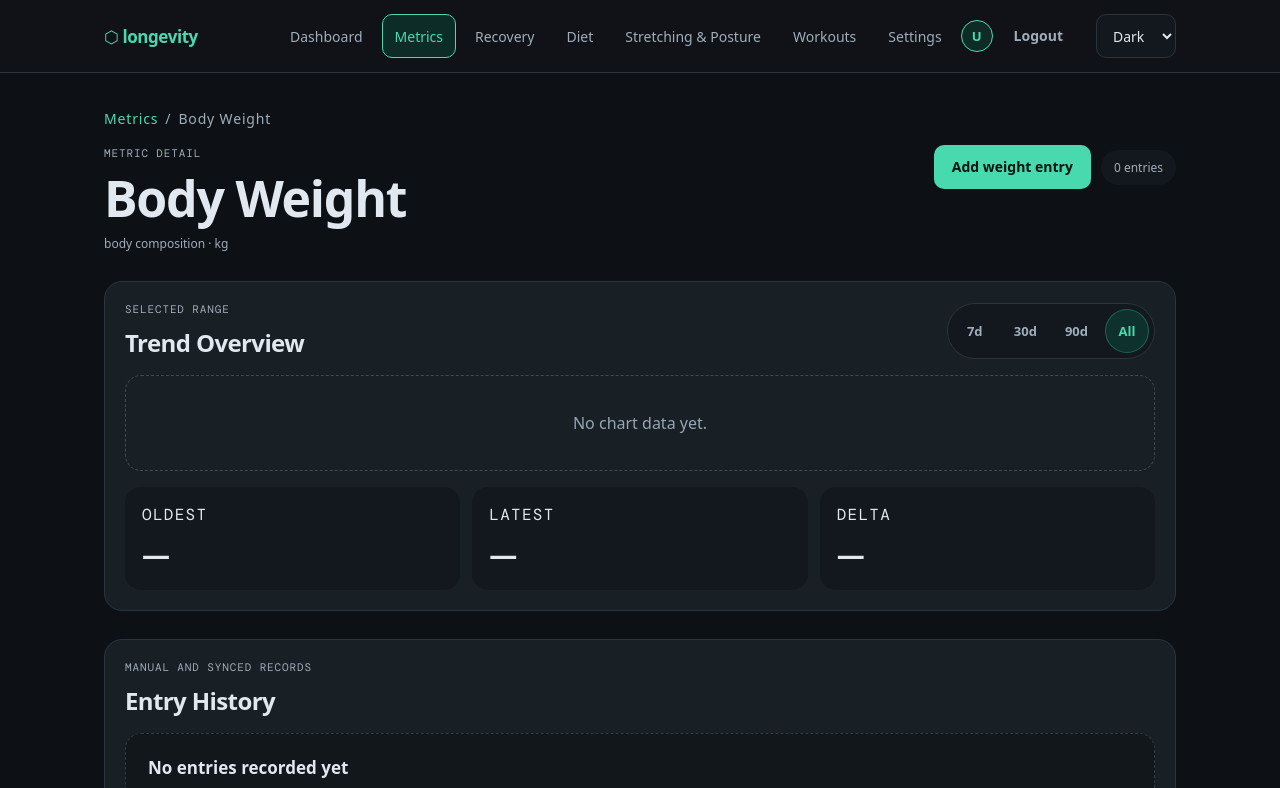
metric detail route › keeps the weight form open when saving fails
Click the button "Add weight entry" at [1012, 167], box top-left (934, 145), bottom-right (1091, 189)
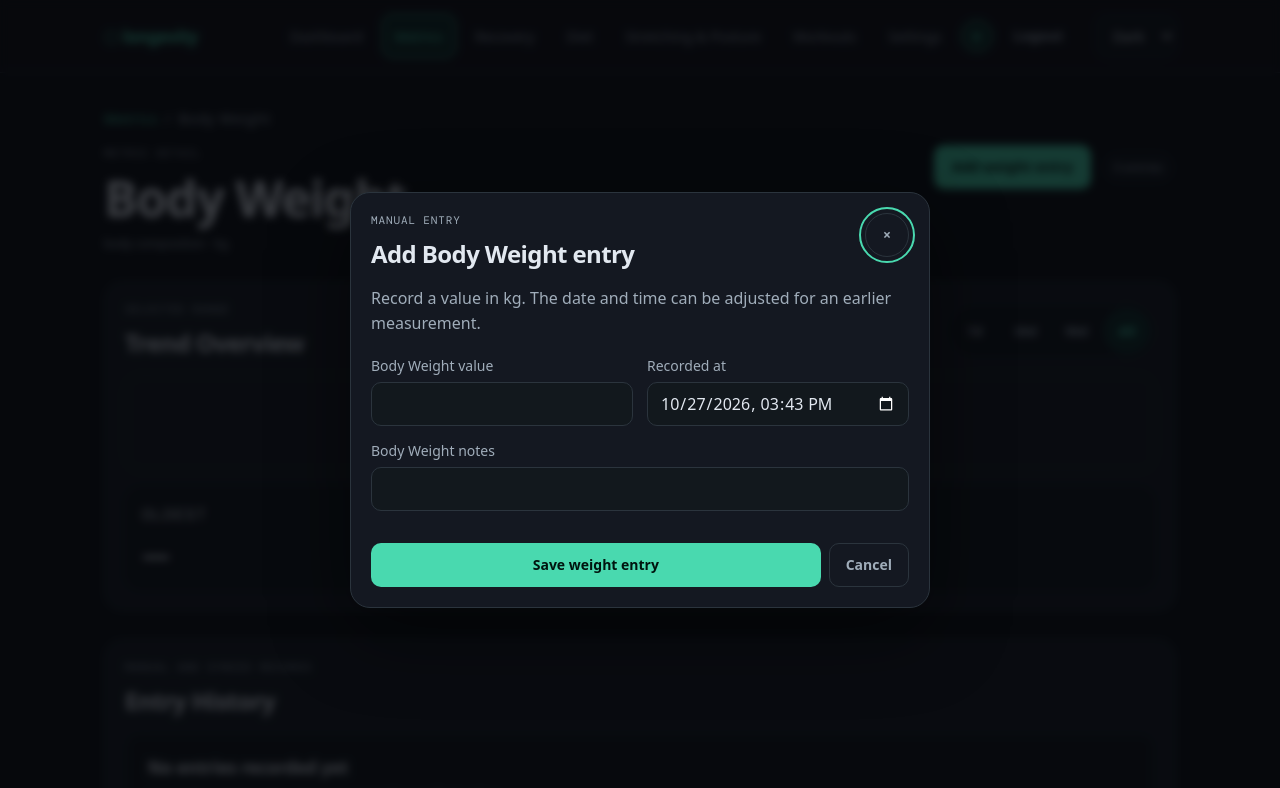
Type "72.4" into the number field labelled "Body Weight value" at [502, 404], box top-left (371, 382), bottom-right (633, 426)
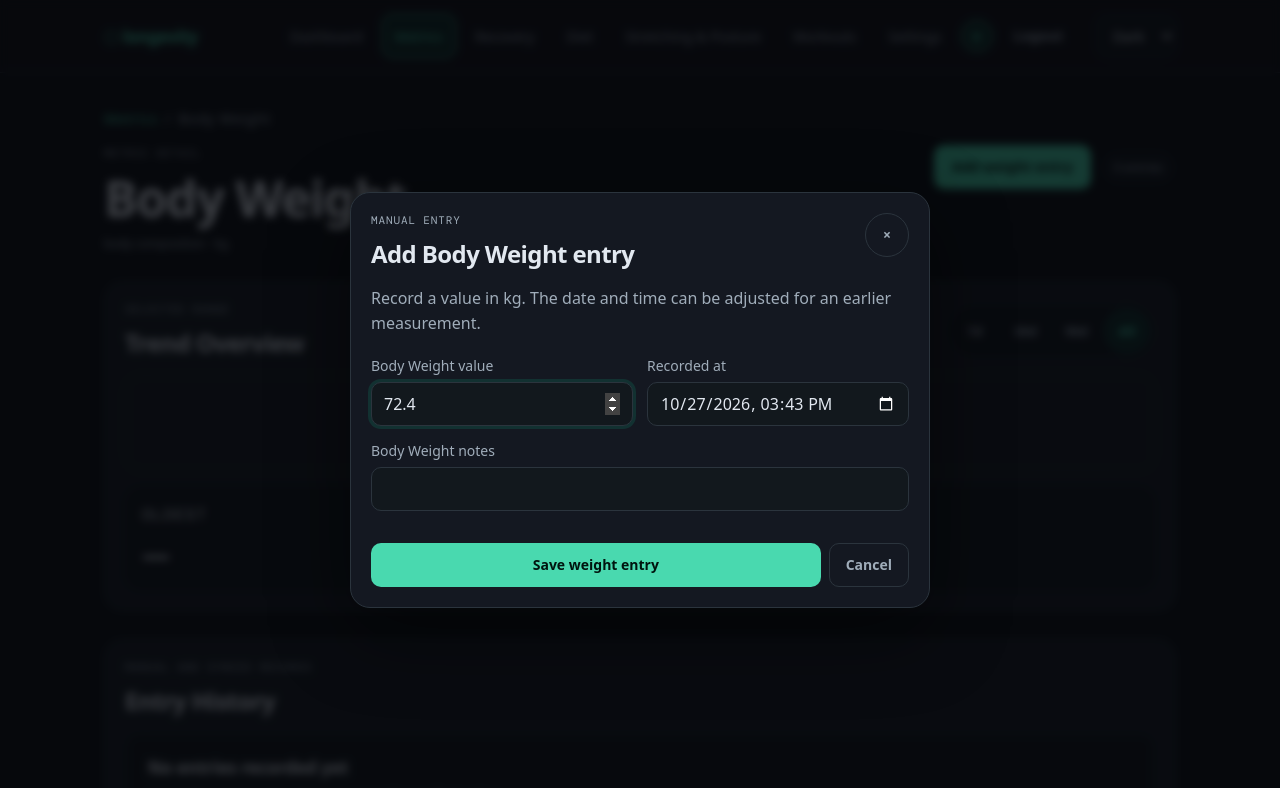
Click the button "Save weight entry" at [596, 565], box top-left (371, 543), bottom-right (821, 587)
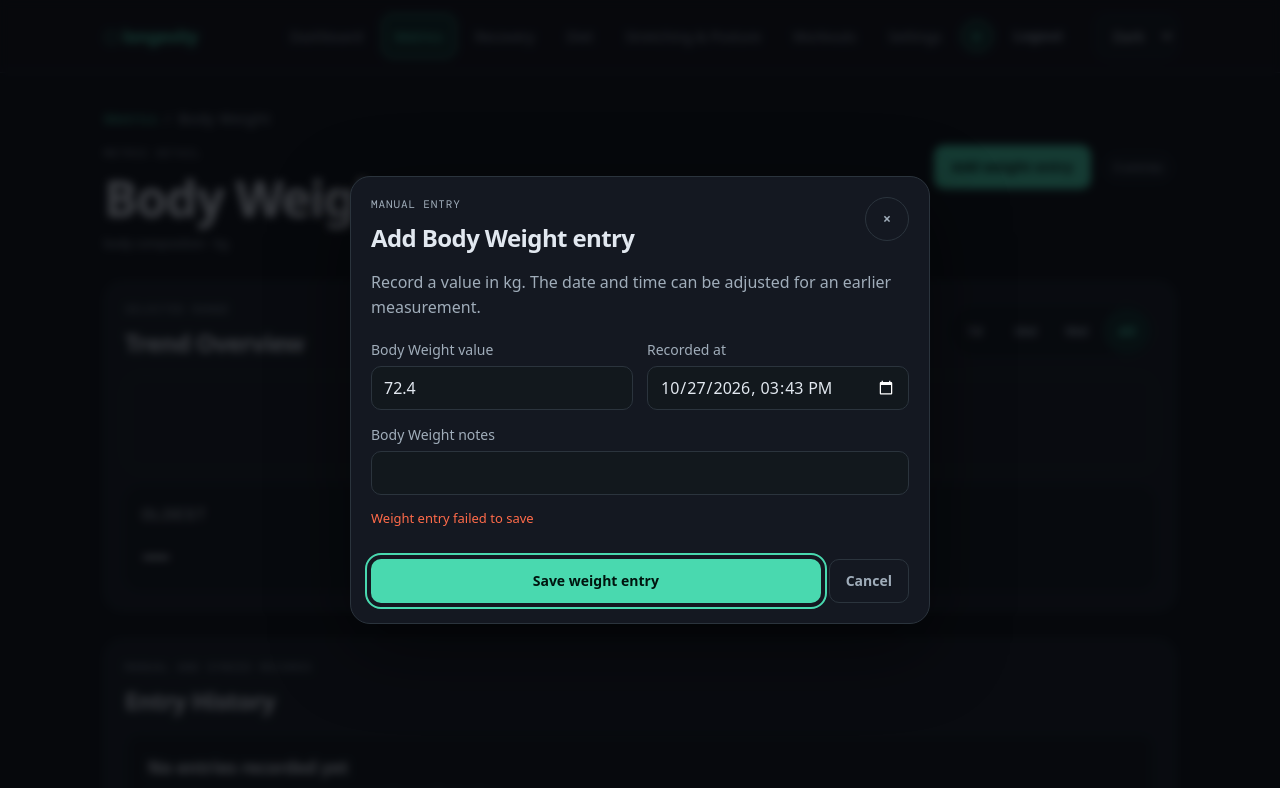
Expected: the dialog "Add Body Weight entry" is shown, top-left (350, 176), bottom-right (930, 624)
Expected: the message reads "Weight entry failed to save", top-left (371, 509), bottom-right (534, 527)
